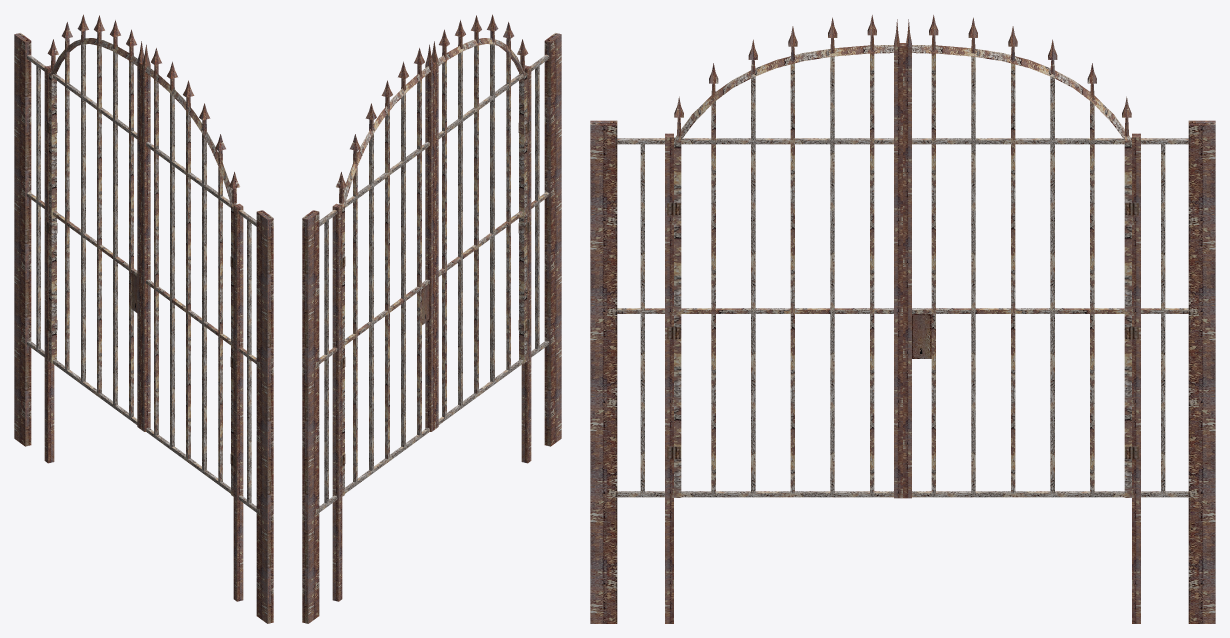
File: MWalG.glb
The picture shows the model from 3 angles, left to right: view 1: azimuth 30°, elevation 25°; view 2: azimuth 150°, elevation 25°; view 3: azimuth 270°, elevation 25°; orthographic projection. The views are drawn at different scales.
Parts seen in each view (by area): view 1: _MWalG; view 2: _MWalG; view 3: _MWalG.
Boxes of the visible parts, bbox=[...] form: _MWalG: bbox=[14, 14, 273, 623]; _MWalG: bbox=[302, 14, 561, 623]; _MWalG: bbox=[590, 15, 1215, 623].
Size of the model in its own units: 0.075 by 4.55 by 4.25.
Materials: 1 (1 with a texture image).
